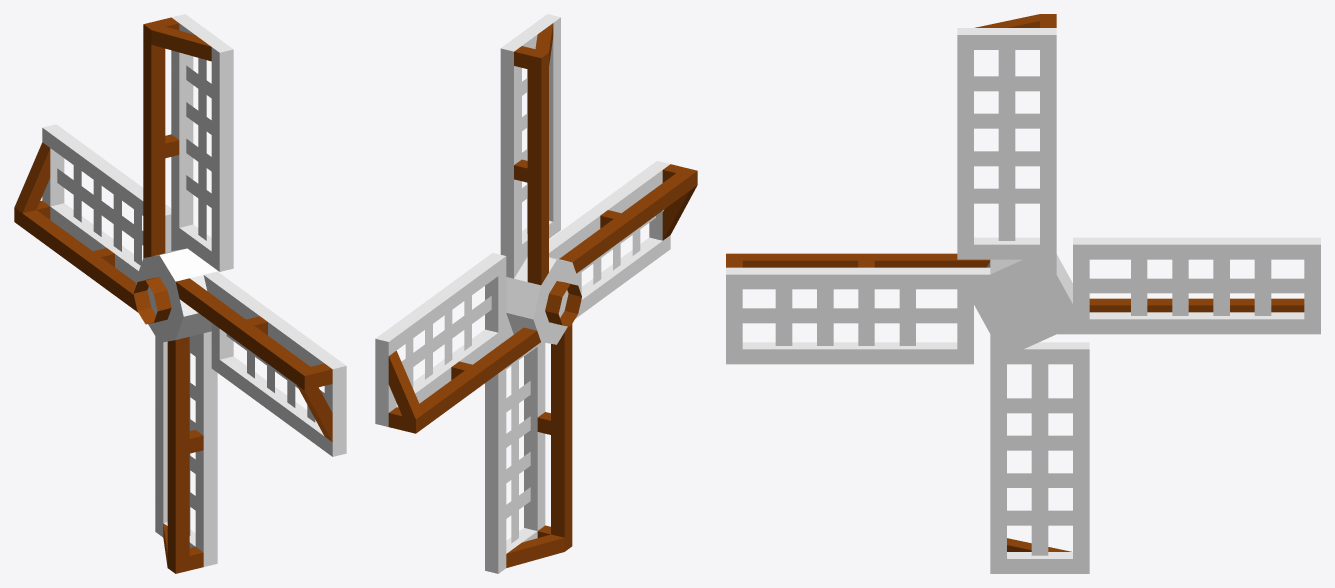
The model's file is windmillsail.obj.
3 views of the same model, side by side, from view 1: azimuth 30°, elevation 25°; view 2: azimuth 150°, elevation 25°; view 3: azimuth 270°, elevation 25° (orthographic). The views are drawn at different scales.
Parts seen in each view (by area): view 1: windmillsail_back; view 2: windmillsail_back; view 3: windmillsail_back.
Part boxes in pixels (left/top/right/bottom): windmillsail_back: left=14, top=14, right=346, bottom=573; windmillsail_back: left=375, top=14, right=697, bottom=573; windmillsail_back: left=726, top=14, right=1320, bottom=573.
Size of the model in its own units: 0.64 by 5.76 by 5.76.
